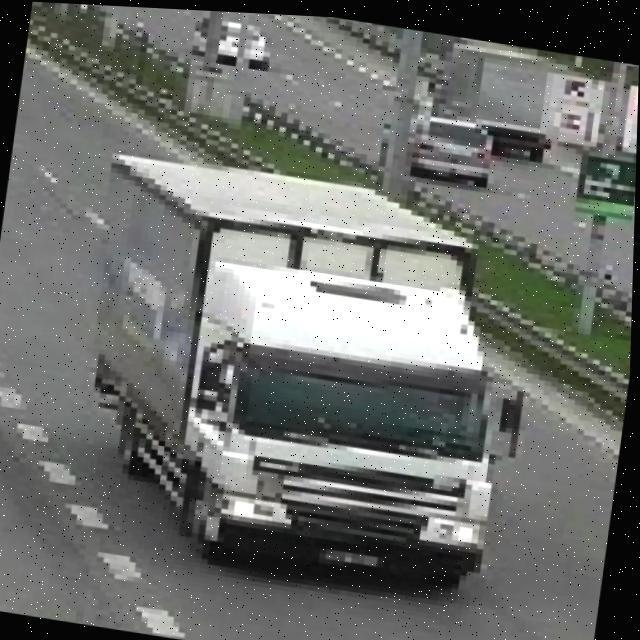truck: (69, 142, 556, 602)
